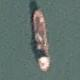ship: (0, 0, 18, 40)
